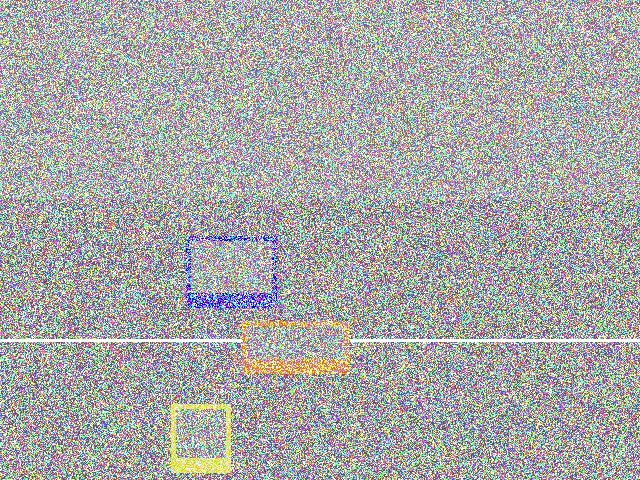car: (251, 166, 398, 276), (272, 127, 387, 193)
motorcycle: (511, 264, 579, 347)
